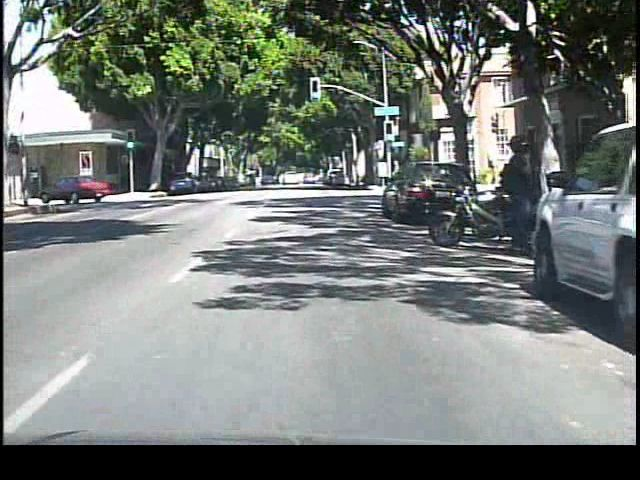person: (494, 129, 533, 263), (387, 153, 403, 190)
